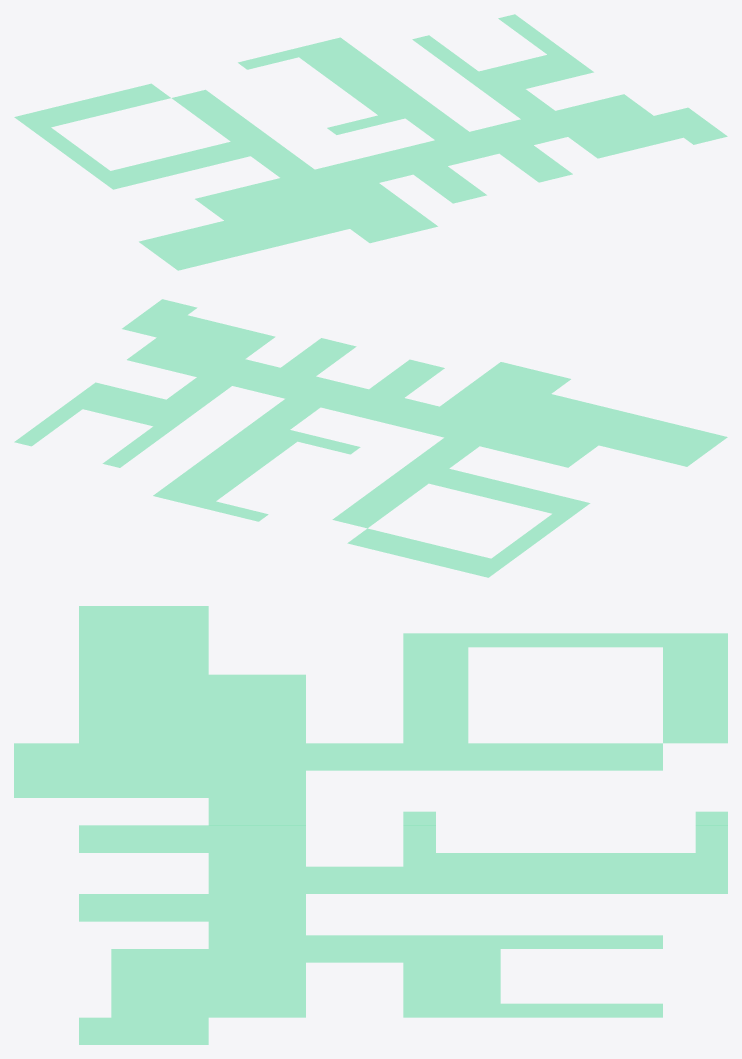
Rendered from navmesh.glb.
The picture shows the model from 3 angles, top to bottom: view 1: azimuth 30°, elevation 25°; view 2: azimuth 150°, elevation 25°; view 3: azimuth 270°, elevation 25°; orthographic projection. The views are drawn at different scales.
Parts seen in each view (by area): view 1: NAVMESH; view 2: NAVMESH; view 3: NAVMESH.
Part boxes in pixels (<box>): NAVMESH: <box>14,14,727,270</box>; NAVMESH: <box>14,299,727,577</box>; NAVMESH: <box>14,606,727,1044</box>.
Size of the model in its own units: 8 by 0 by 5.5.
